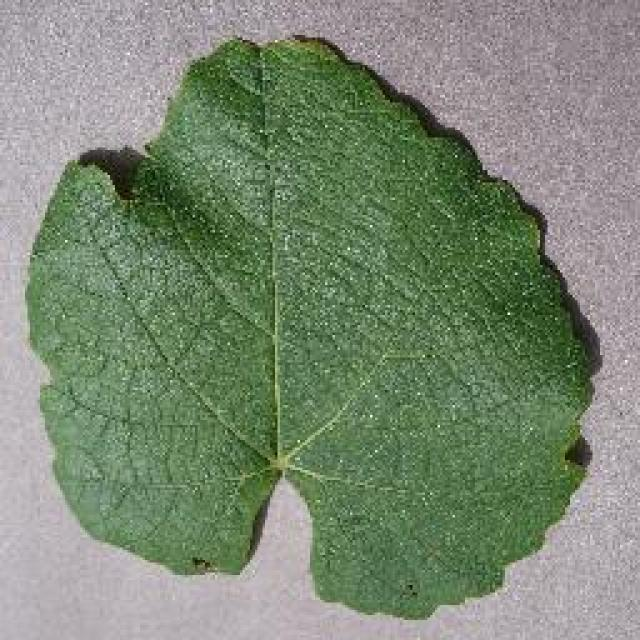Grape___healthy: (28, 38, 588, 615)
